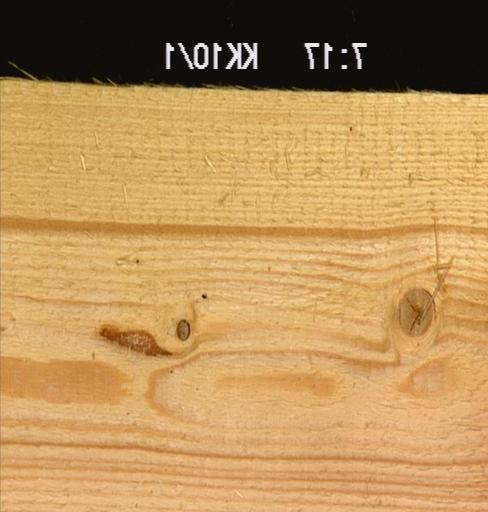dry_knot: (174, 317, 190, 341)
sound_knot: (396, 282, 436, 337)
